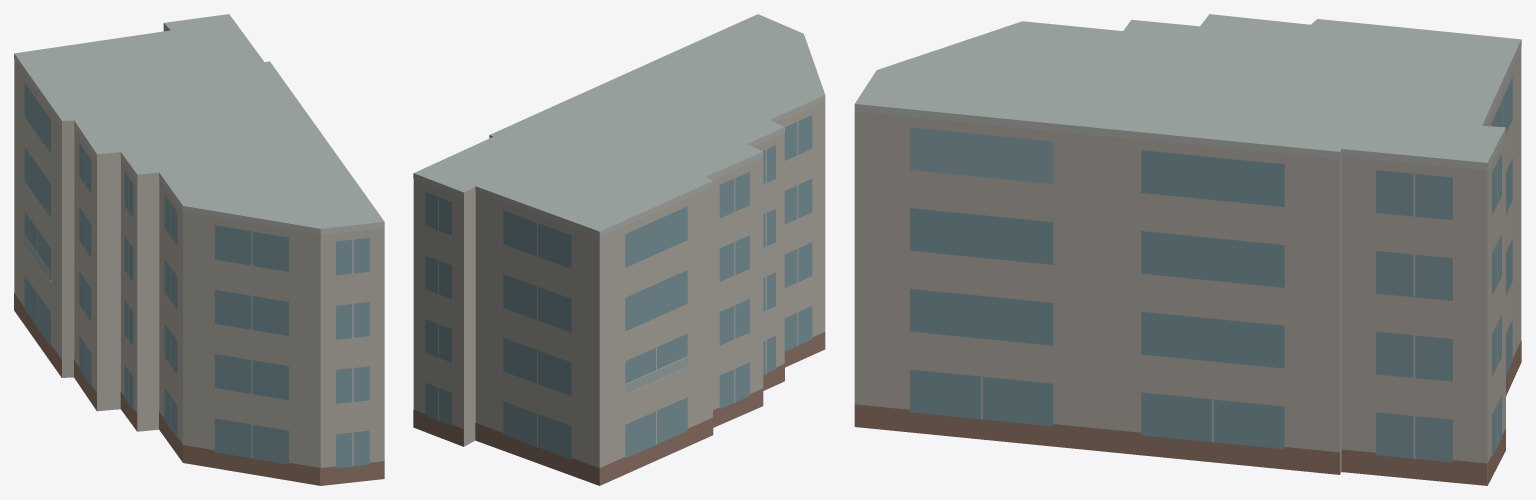
The model's file is survey-upis-32928772.glb.
3 renders of one model, left to right at view 1: azimuth 30°, elevation 25°; view 2: azimuth 150°, elevation 25°; view 3: azimuth 270°, elevation 25°, orthographic. The views are drawn at different scales.
Visible parts, largest first — view 1: survey-upis-32928772.tmp; view 2: survey-upis-32928772.tmp; view 3: survey-upis-32928772.tmp.
Part boxes in pixels (x1,y1,x2,y2): survey-upis-32928772.tmp: (14,14,384,485); survey-upis-32928772.tmp: (413,14,825,485); survey-upis-32928772.tmp: (854,14,1521,485).
Size of the model in its own units: 10.39 by 10.5 by 19.65.
